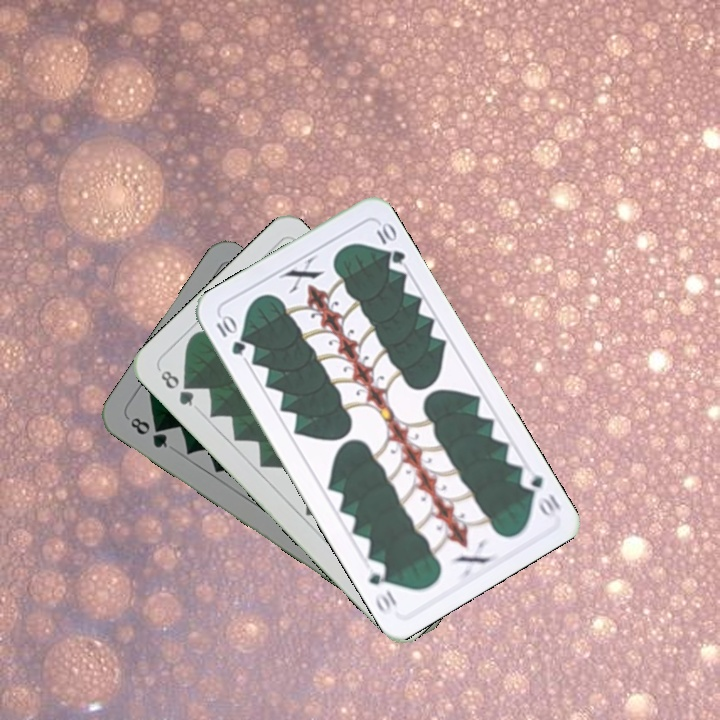G10: (515, 464, 565, 522), (212, 310, 248, 358)
G8: (156, 366, 197, 409), (126, 413, 170, 451)
